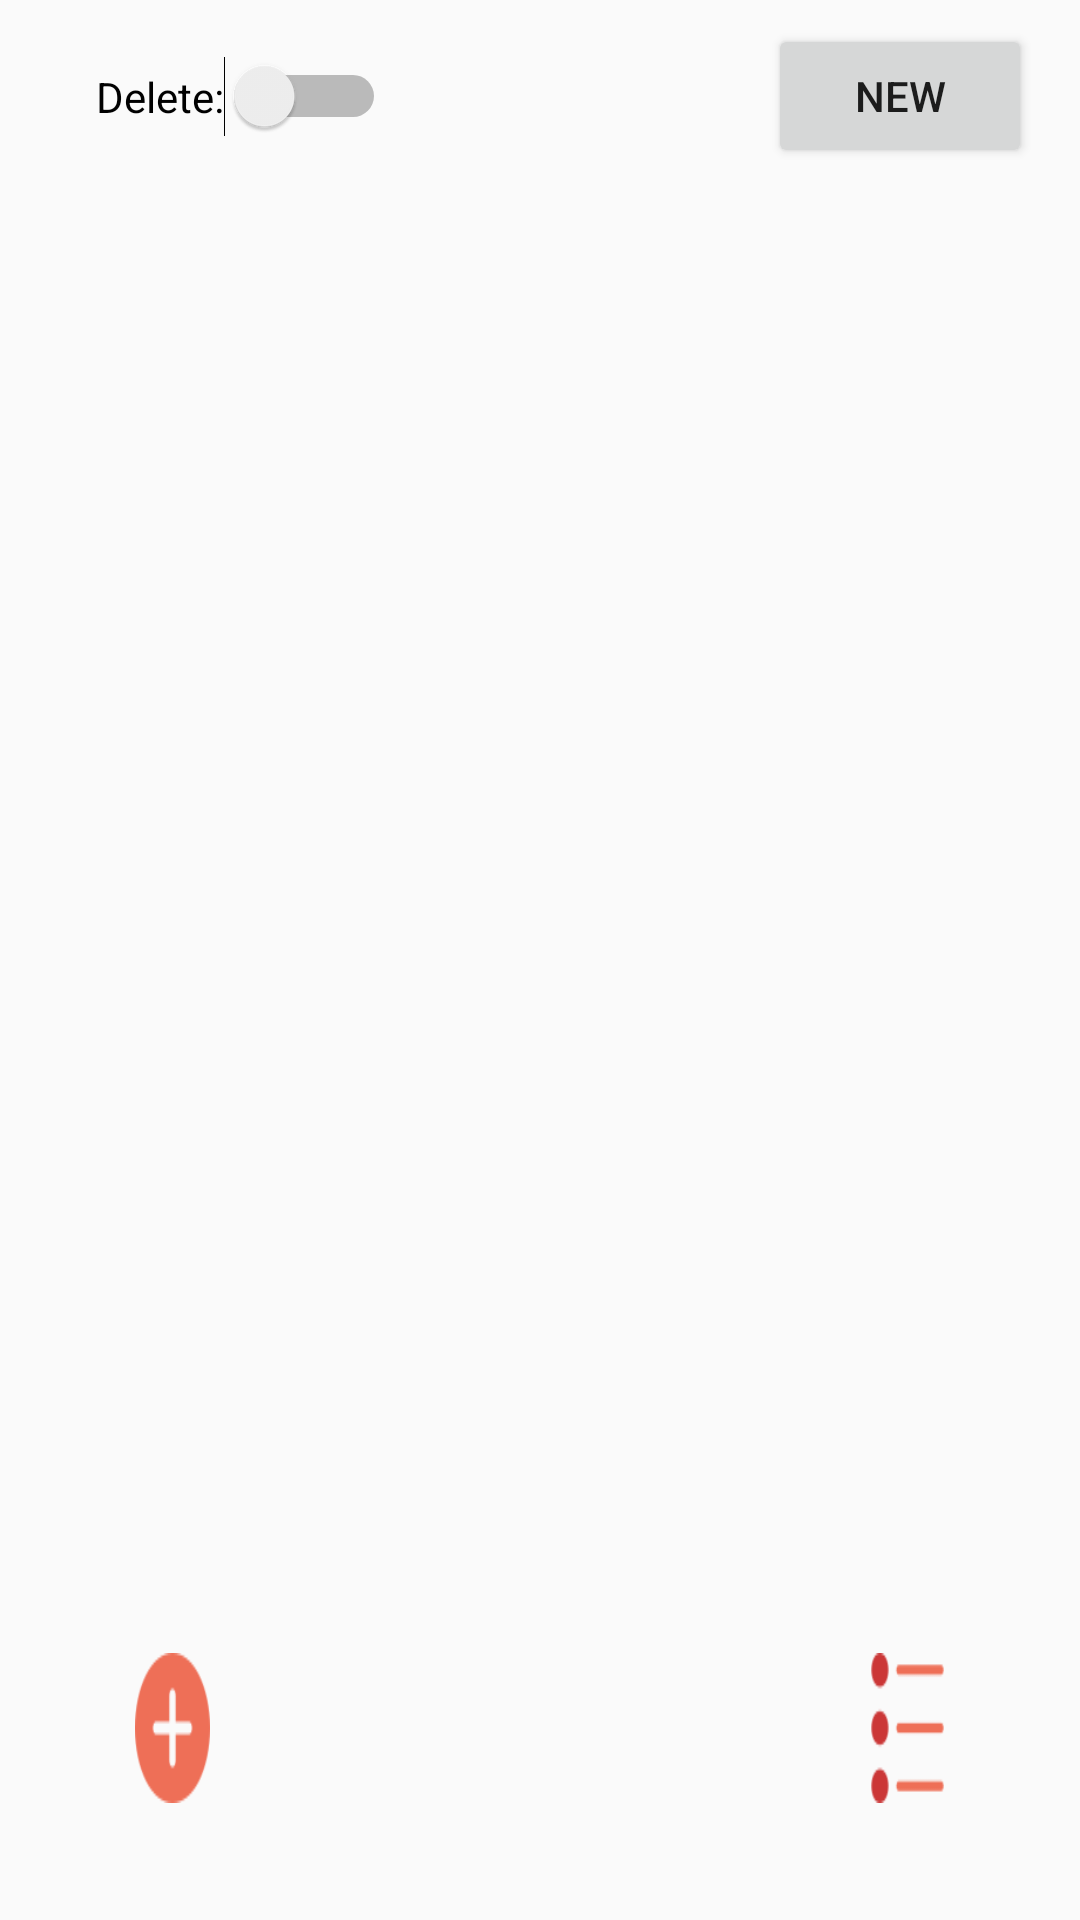

Screen size 1080x1920. Icon name, then its box in pixels as bbox=[x1, y1, x2, y2]:
list: bbox=[871, 1653, 944, 1803]
plus: bbox=[135, 1653, 210, 1803]
